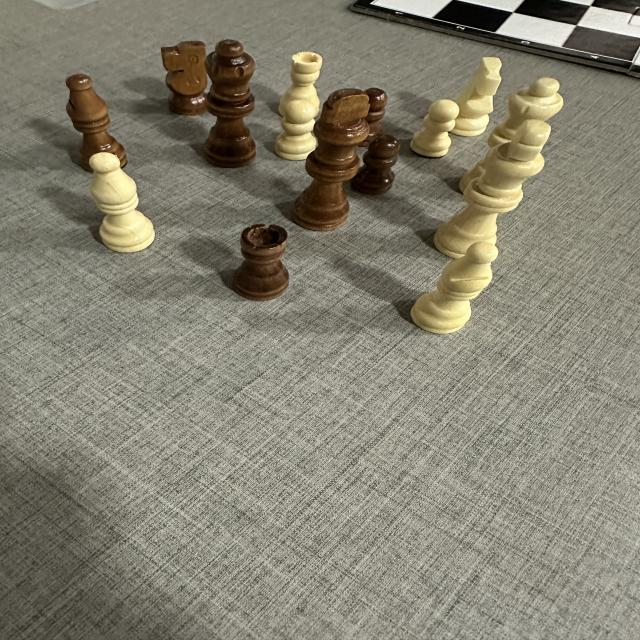Black-Bishop: (63, 74, 127, 172)
Black-King: (290, 87, 371, 230)
Black-Knight: (161, 40, 209, 117)
Black-Pawn: (348, 135, 402, 194), (357, 86, 388, 146)
Black-Queen: (200, 39, 256, 168)
Black-Rook: (230, 224, 290, 300)
White-Bishop: (411, 242, 498, 334), (88, 152, 156, 254)
White-King: (437, 119, 550, 259)
White-Knight: (451, 56, 502, 137)
White-Pawn: (409, 99, 460, 159), (274, 101, 317, 161)
White-Queen: (458, 77, 564, 195)
White-Rook: (279, 51, 321, 118)
